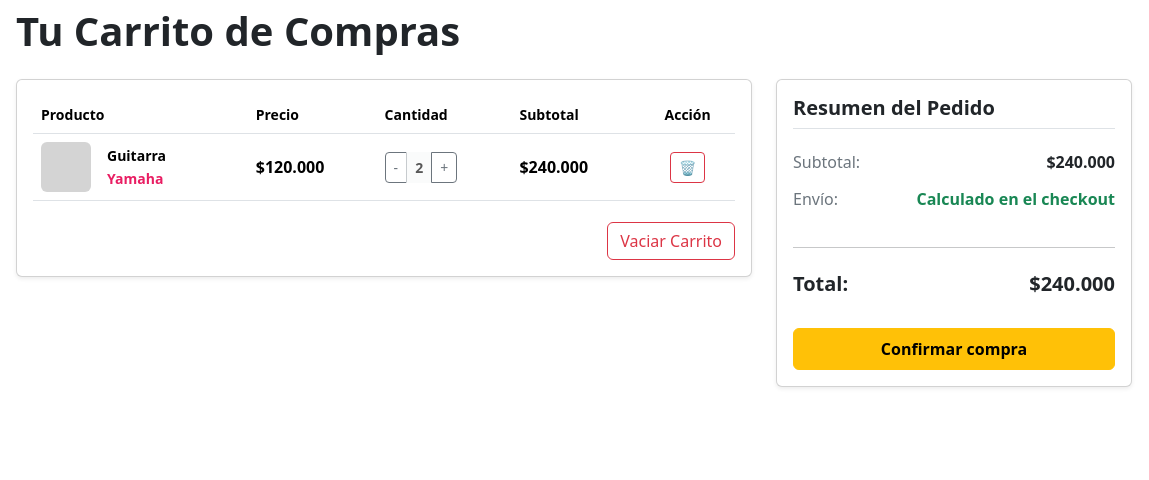
Test case: compra desde el carrito › muestra el mensaje de error devuelto por la API
What coordinates should you click on to do the following:
click the button "Confirmar compra"
I would click on:
 (954, 349)
Its box is [793,328,1115,370].
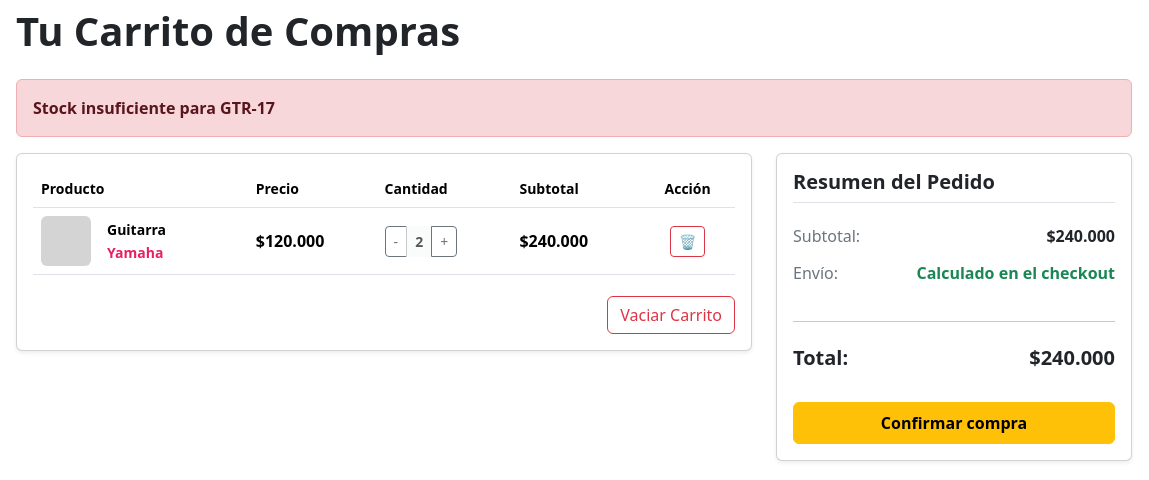
Now the message reads "Stock insuficiente para GTR-17", box [33,97,275,119]
